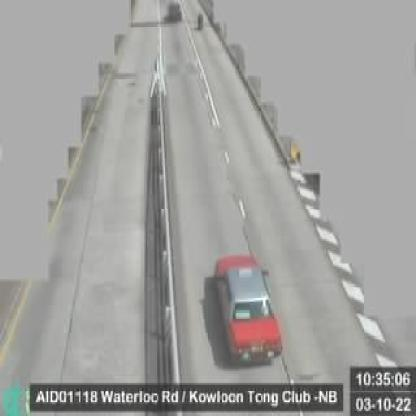Car: (208, 255, 282, 362)
